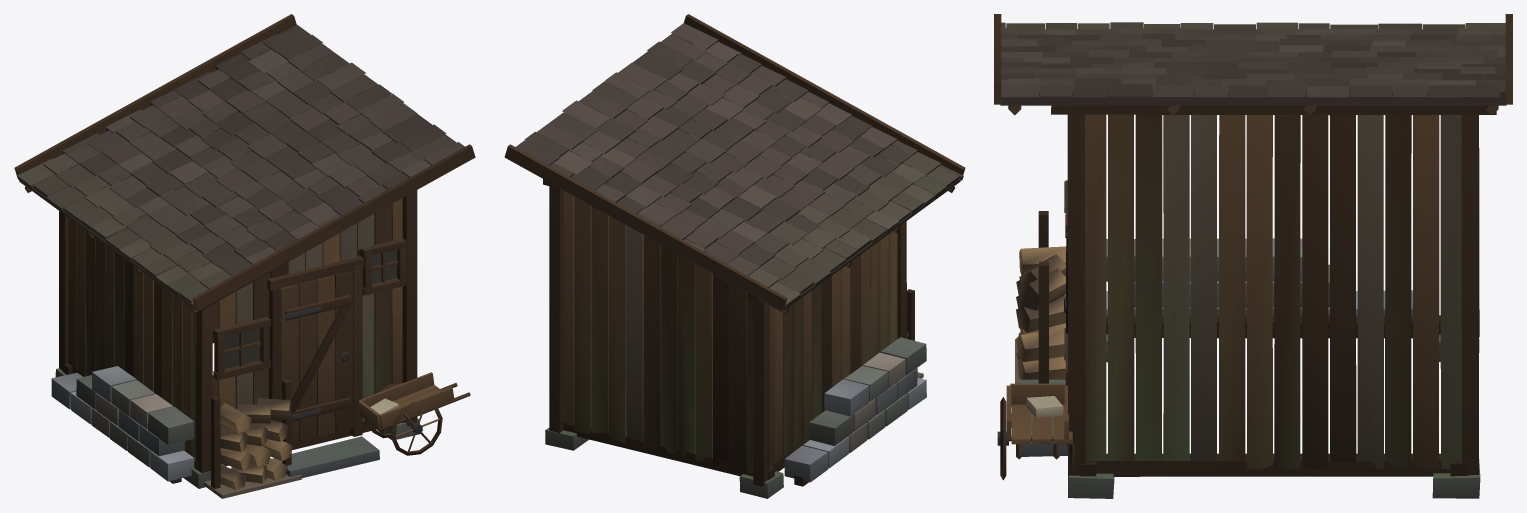
Rendered from ph_bld_shed_l3.glb.
3 renders of one model, left to right at view 1: azimuth 30°, elevation 25°; view 2: azimuth 150°, elevation 25°; view 3: azimuth 270°, elevation 25°, orthographic. The views are drawn at different scales.
Visible parts, largest first — view 1: ph_bld_shed_l3; view 2: ph_bld_shed_l3; view 3: ph_bld_shed_l3.
Boxes of the visible parts, left/top/right/bottom form: ph_bld_shed_l3: left=14, top=14, right=475, bottom=498; ph_bld_shed_l3: left=504, top=14, right=965, bottom=498; ph_bld_shed_l3: left=994, top=14, right=1512, bottom=498.
Size of the model in its own units: 3.28 by 3.32 by 3.61.
